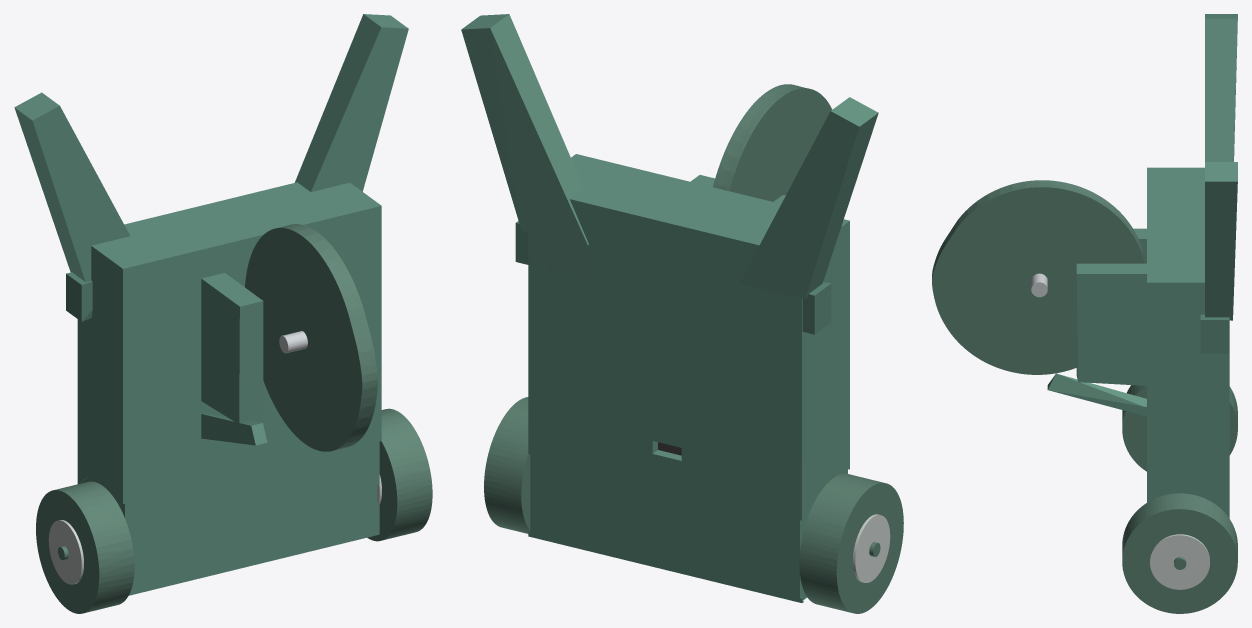
File: verty_big_secret.glb
3 renders of one model, left to right at view 1: azimuth 30°, elevation 25°; view 2: azimuth 150°, elevation 25°; view 3: azimuth 270°, elevation 25°, orthographic. The views are drawn at different scales.
Visible parts, largest first — view 1: chassis, weapon, fork_l, fork_r, wheel_r0, upright_r, wheel_l0, dt_hub_wheel_r0, hook_r, dt_mount_fork_r; view 2: chassis, fork_l, fork_r, wheel_r0, weapon, wheel_l0, dt_hub_wheel_r0, dt_mount_fork_l, dt_mount_fork_r; view 3: weapon, chassis, wheel_l0, upright_l, fork_l, fork_r, dt_hub_wheel_l0, wheel_r0, hook_l, dt_mount_fork_l.
Boxes of the visible parts, <box> form: chassis: <box>77,182,381,595</box>; weapon: <box>245,224,377,451</box>; fork_l: <box>294,14,408,191</box>; fork_r: <box>14,92,129,281</box>; wheel_r0: <box>36,481,134,613</box>; upright_r: <box>201,273,263,423</box>; wheel_l0: <box>367,408,432,541</box>; dt_hub_wheel_r0: <box>48,520,83,584</box>; hook_r: <box>201,414,267,445</box>; dt_mount_fork_r: <box>66,272,92,321</box>; chassis: <box>528,154,849,602</box>; fork_l: <box>461,14,588,245</box>; fork_r: <box>739,97,878,298</box>; wheel_r0: <box>799,473,903,613</box>; weapon: <box>713,84,832,201</box>; wheel_l0: <box>484,397,530,533</box>; dt_hub_wheel_r0: <box>853,514,890,582</box>; dt_mount_fork_l: <box>515,221,598,281</box>; dt_mount_fork_r: <box>802,282,831,334</box>; weapon: <box>932,180,1145,374</box>; chassis: <box>1147,167,1229,518</box>; wheel_l0: <box>1122,493,1237,613</box>; upright_l: <box>1076,263,1146,385</box>; fork_l: <box>1205,162,1237,320</box>; fork_r: <box>1205,14,1237,161</box>; dt_hub_wheel_l0: <box>1150,534,1209,589</box>; wheel_r0: <box>1122,385,1237,471</box>; hook_l: <box>1047,373,1146,416</box>; dt_mount_fork_l: <box>1200,314,1229,353</box>.
Size of the model in its own units: 96 by 120 by 74.01.
